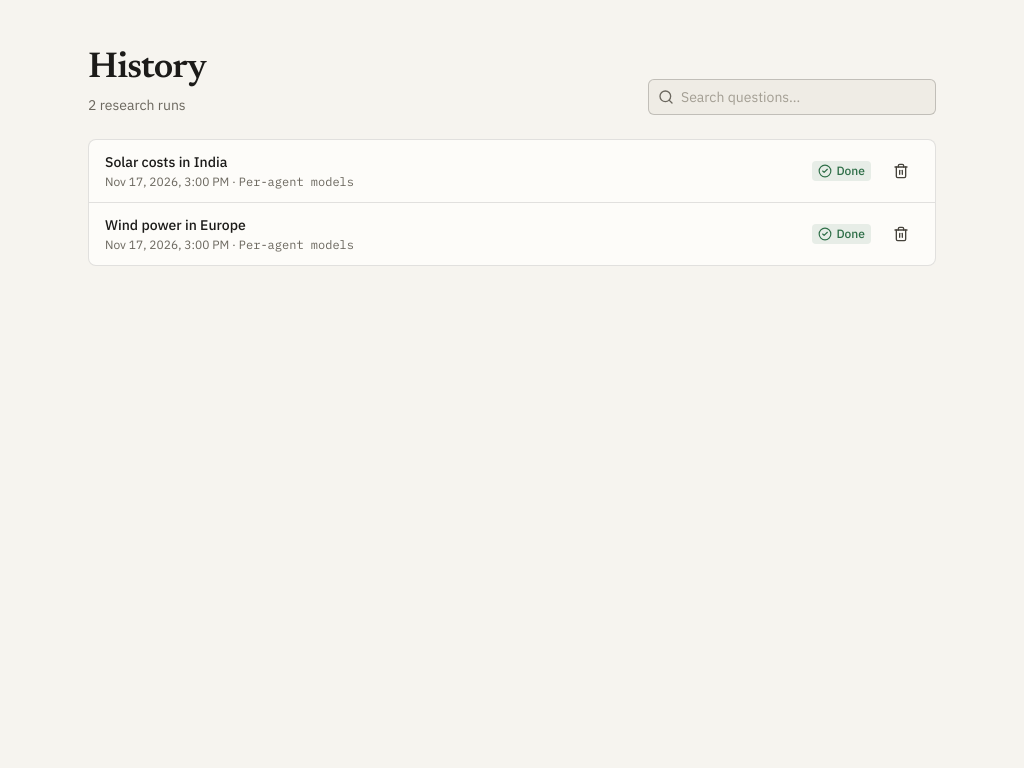
Test: HistoryPage › deletes a run after confirmation
The width and height of the screenshot is (1024, 768).
Click the button named "Delete run: Solar costs" at (901, 171), box [883, 153, 919, 189]
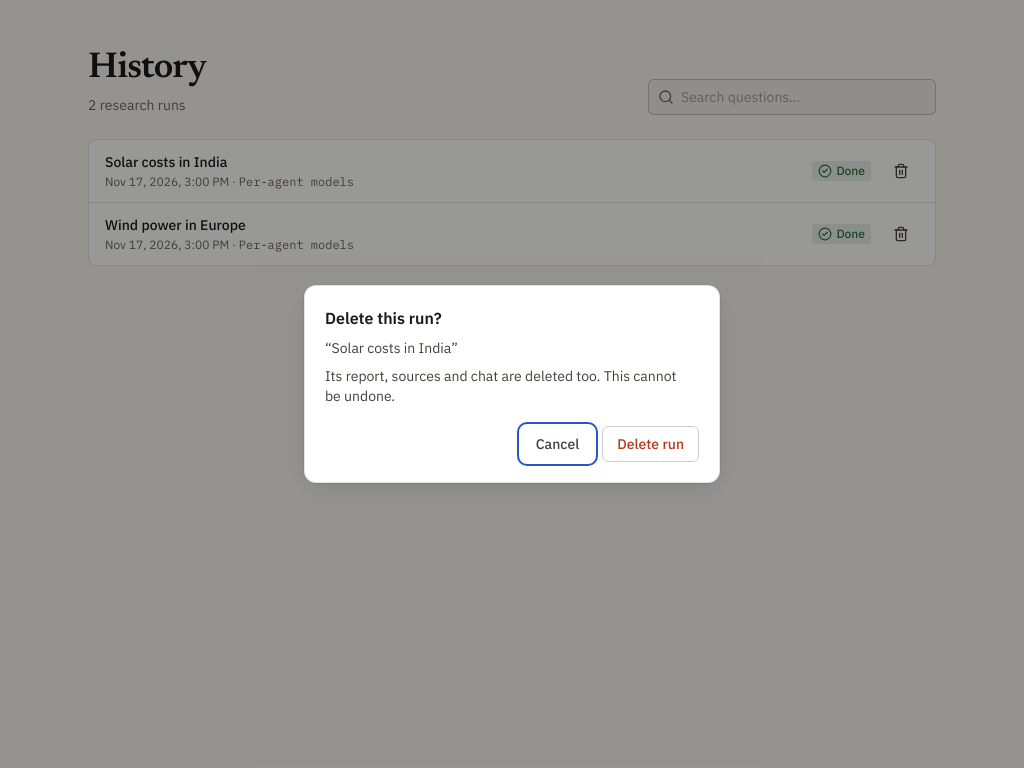
Click the button "Delete run" at (651, 444), box [602, 426, 699, 462]
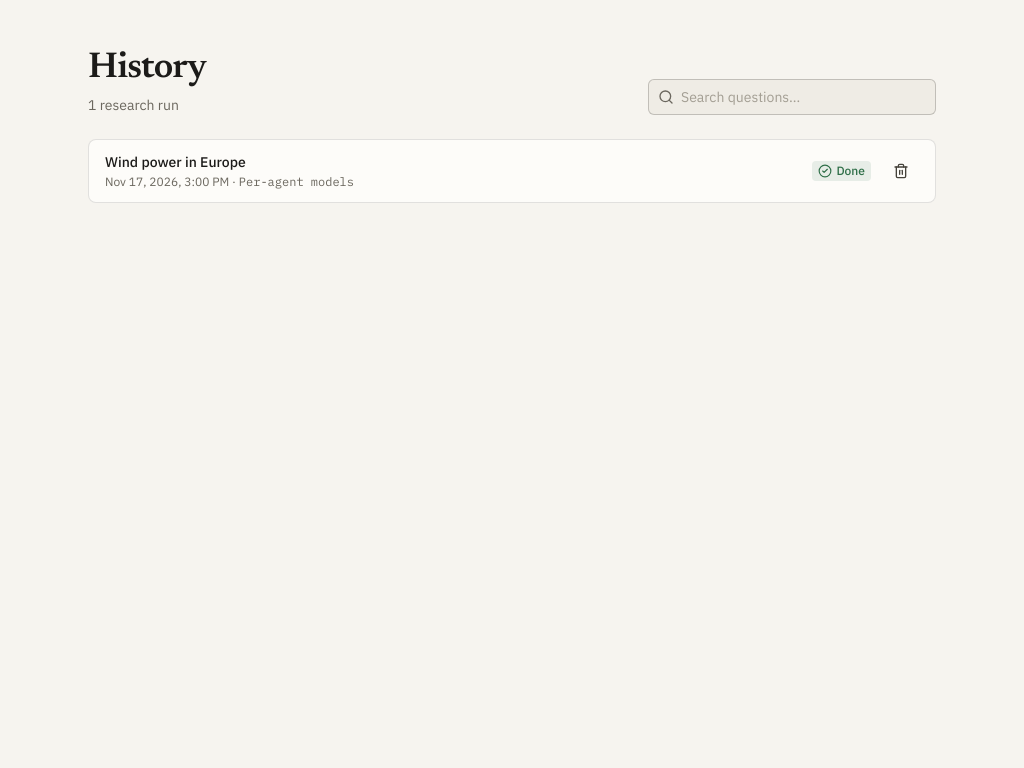
Check: the link "Solar costs in India" is gone
Check: the text "1 research run" is shown, box [88, 96, 179, 114]
